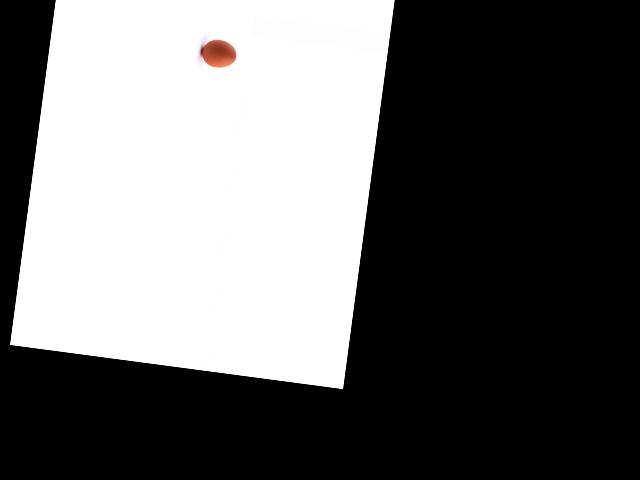egg: (200, 37, 238, 69)
